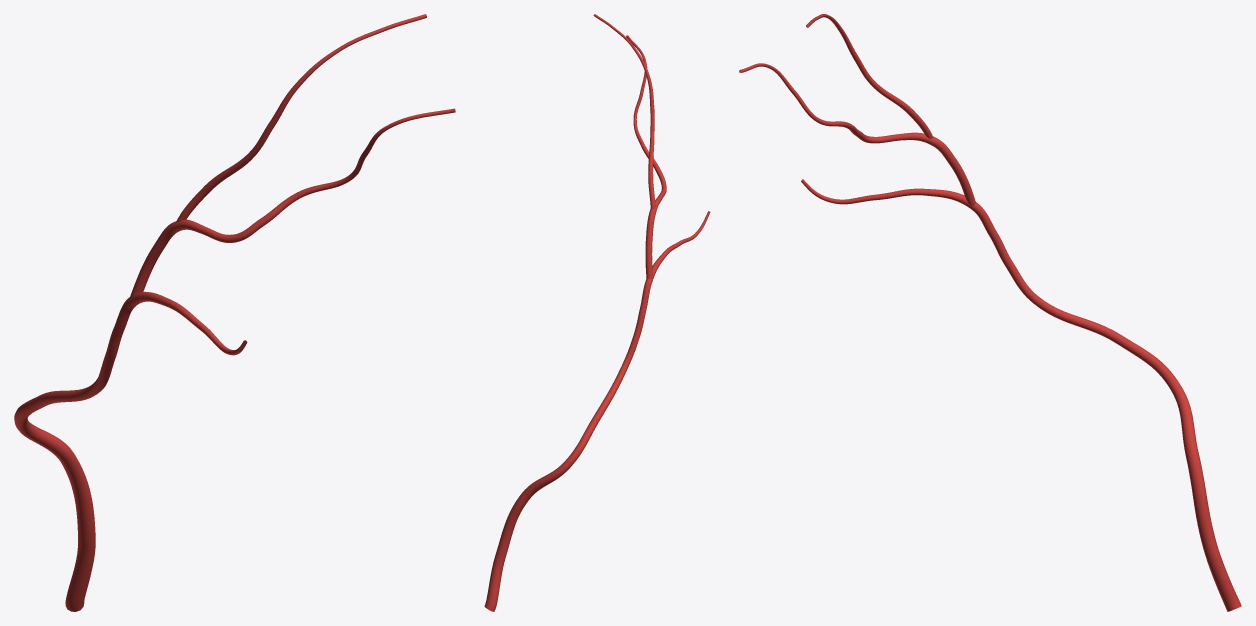
3 renders of one model, left to right at view 1: azimuth 30°, elevation 25°; view 2: azimuth 150°, elevation 25°; view 3: azimuth 270°, elevation 25°, orthographic. The views are drawn at different scales.
Parts seen in each view (by area): view 1: 左侧顶枕动脉; view 2: 左侧顶枕动脉; view 3: 左侧顶枕动脉.
Boxes of the visible parts, bbox=[...] form: 左侧顶枕动脉: bbox=[14, 14, 455, 611]; 左侧顶枕动脉: bbox=[484, 14, 710, 611]; 左侧顶枕动脉: bbox=[739, 14, 1241, 611].
Size of the model in its own units: 0.0248 by 0.091 by 0.0665.
